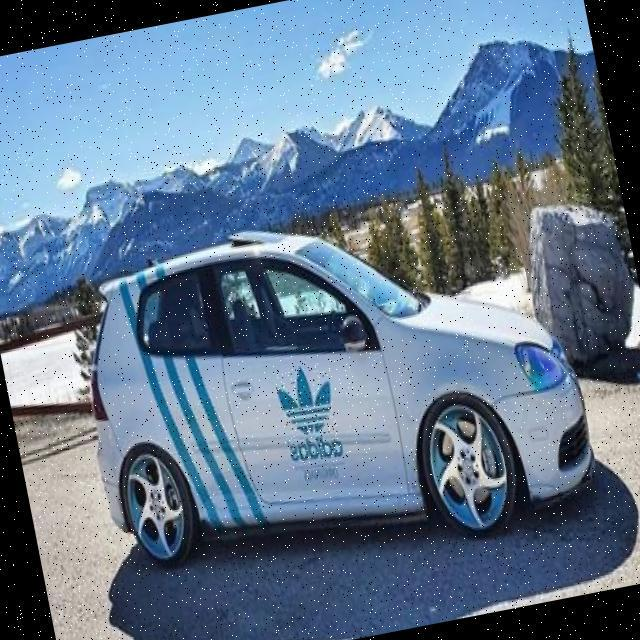Adidas: (273, 360, 343, 466)
